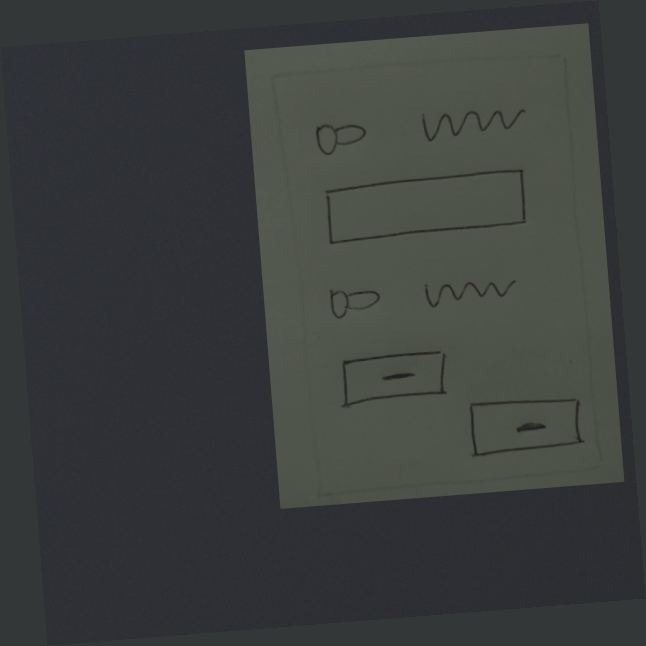button: (465, 391, 590, 462), (333, 345, 455, 412)
switch: (306, 113, 376, 166), (324, 281, 385, 325)
text: (414, 102, 535, 148), (413, 269, 520, 315)
text_input: (315, 164, 534, 251)
